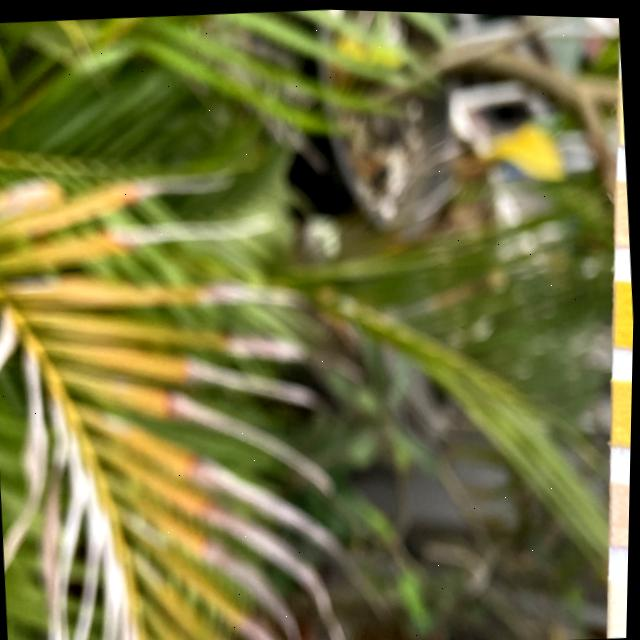Bilirubin: (609, 575, 630, 634)
Blood: (617, 277, 635, 342)
Ketone: (612, 475, 632, 542)
SpGravity: (611, 378, 634, 445)
pH: (616, 177, 631, 242)
